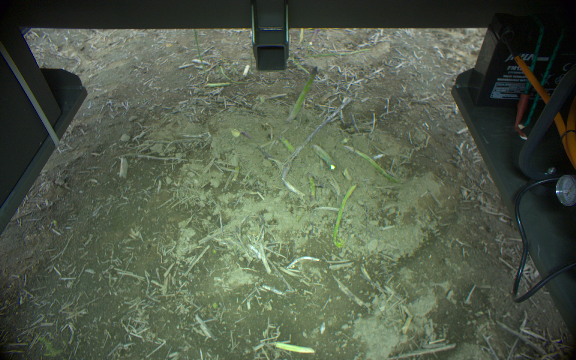aspa: (339, 143, 402, 184), (287, 64, 317, 124), (332, 182, 358, 250), (192, 30, 210, 78), (312, 140, 336, 174), (305, 174, 320, 202), (201, 80, 232, 90), (278, 136, 295, 154)
